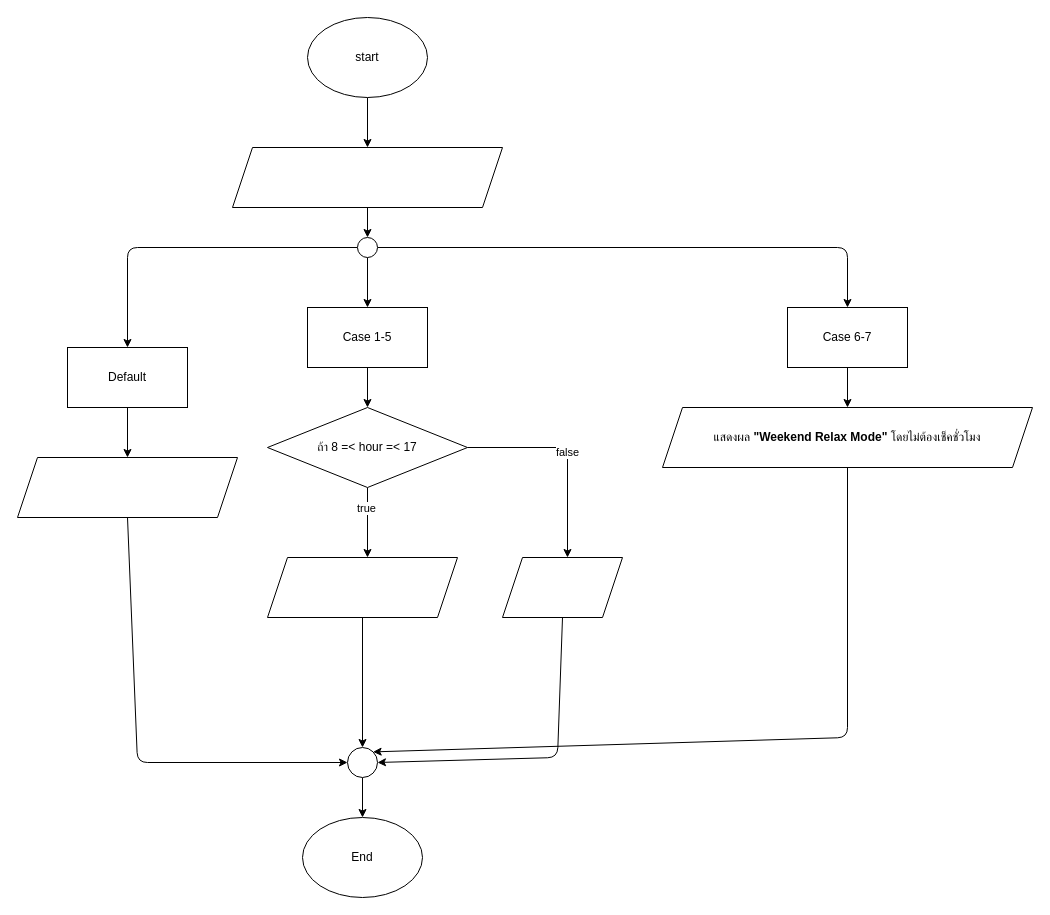
Image size: 1050x915. Some labels were removed from this diagram. Each missing label, with the centre of its shape:
รับค่ารหัสวัน (dayCode) และชั่วโมง (hour).: pixel 367 177
แสดงผล "Invalid Day Code": pixel 127 487
แสดงผล "System Idle (Off-hours)": pixel 562 587
แสดงผล "System Running (Workday)": pixel 362 587
